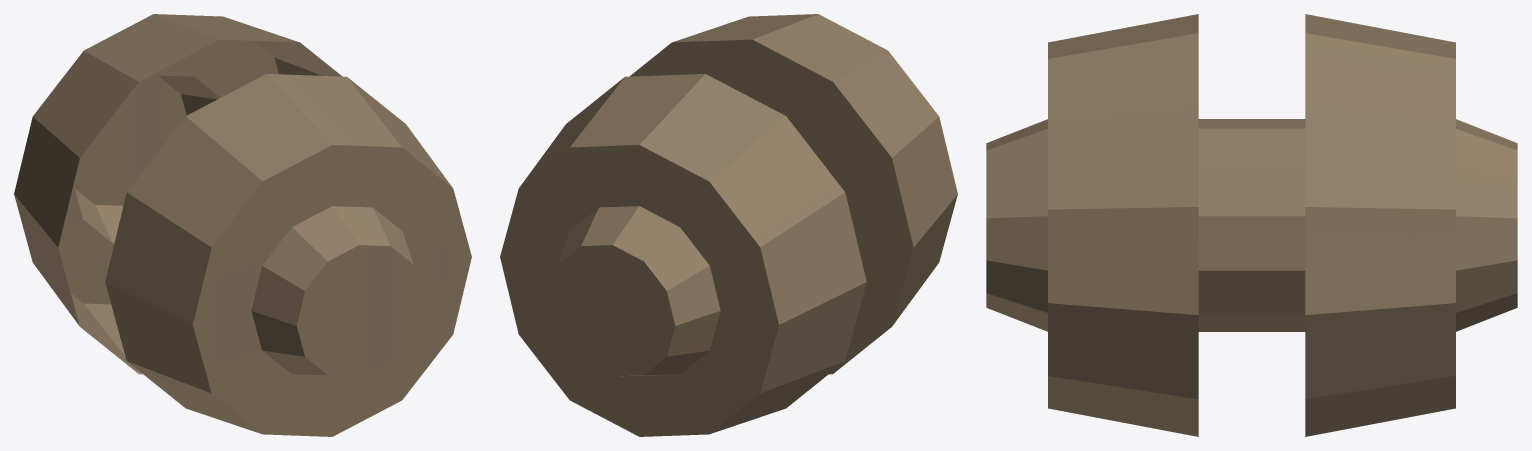
Rendered from SM_ChandelierWheelFOREGROUND.fbx.
The picture shows the model from 3 angles, left to right: view 1: azimuth 30°, elevation 25°; view 2: azimuth 150°, elevation 25°; view 3: azimuth 270°, elevation 25°; orthographic projection. The views are drawn at different scales.
Parts seen in each view (by area): view 1: SM_chandelierwheel.001; view 2: SM_chandelierwheel.001; view 3: SM_chandelierwheel.001.
Boxes of the visible parts, box(x1,y1,x2,y2) form: SM_chandelierwheel.001: box(14, 14, 471, 436); SM_chandelierwheel.001: box(500, 14, 957, 436); SM_chandelierwheel.001: box(986, 14, 1517, 436).
Bounding box in the file's own units: 90.29 × 113 × 90.29.
